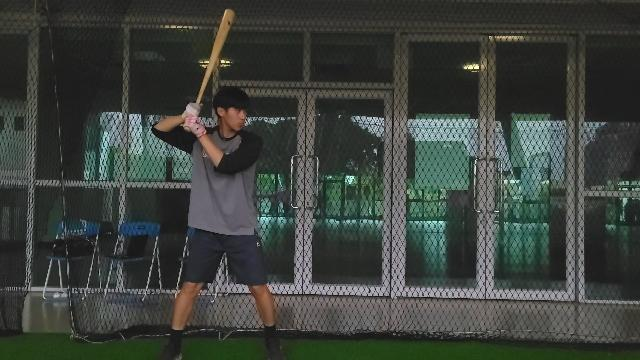baseball bat: (195, 6, 237, 106)
